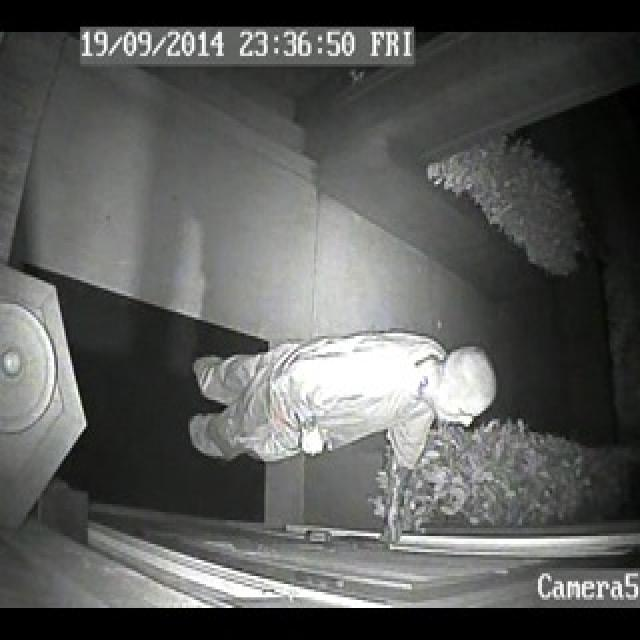thief: (190, 318, 500, 532)
